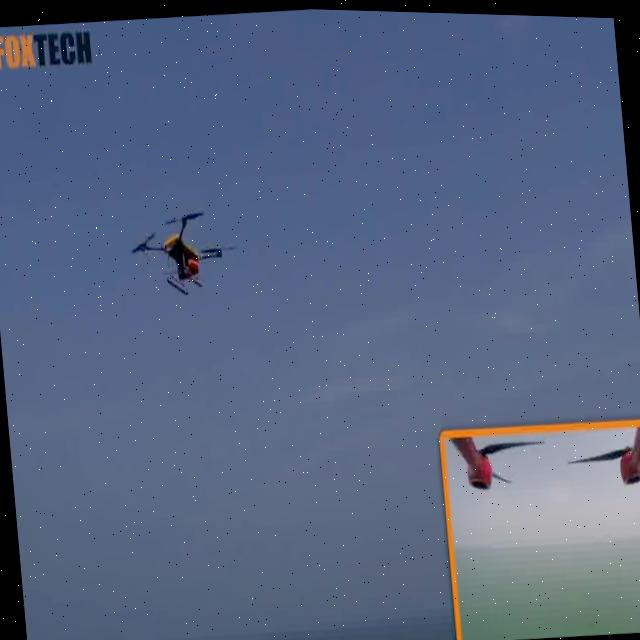drone: (113, 181, 239, 307)
